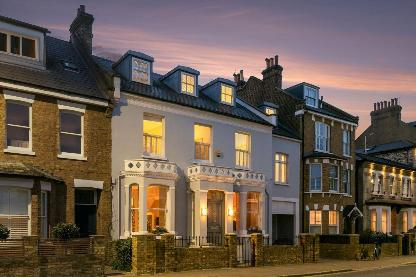door: (206, 196, 223, 246)
